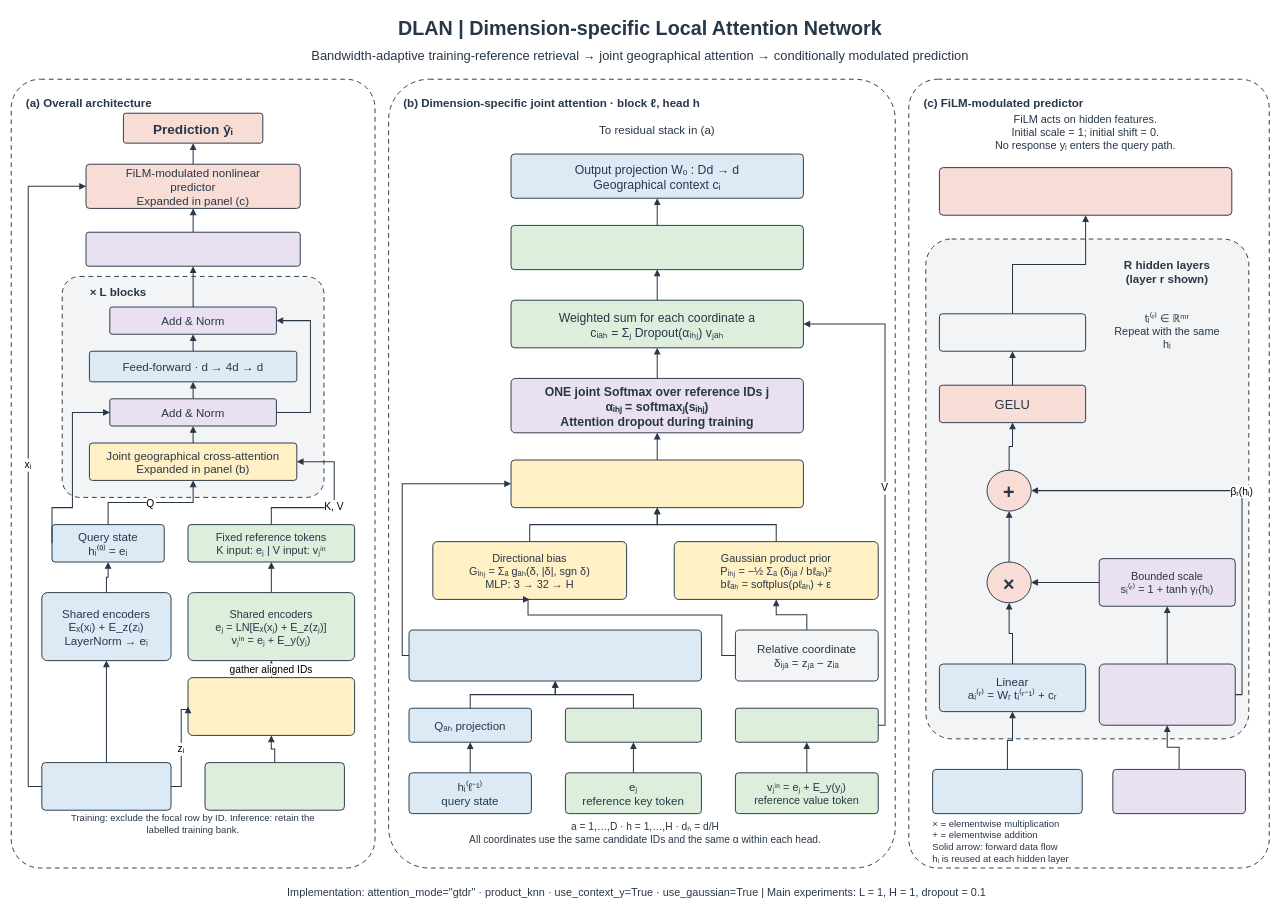
The diagram is 1280 pixels wide and 913 high, and some of its shapes have lost their labels. The centre of each missing label's shape, as x and y in pixels:
Add scores + padding mask sᵢₕⱼ = mᵢₕⱼ + Gᵢₕⱼ + Pᵢₕⱼ: the point at 657,483
After R layers: linear readout ŷᵢ = wᵀ tᵢ⁽ᴿ⁾ + b: the point at 1085,191
Bandwidth-adaptive retrieval d² = Σₐ (δₐ / bℓₐₕ)² Top-K per (ℓ,h) → ID union: the point at 271,706
Concatenate all coordinate–head contexts D × H × dₕ = Dd: the point at 657,247
Content match · average over D coordinates mᵢₕⱼ = (1/D) Σₐ (qᵢₐₕᵀ kⱼₐₕ)/√dₕ: the point at 555,655
Dropout: the point at 1012,332
FiLM linear d → 2mᵣ Split → γᵣ(hᵢ), βᵣ(hᵢ) Zero-initialised weights + bias: the point at 1166,694
Kₐₕ projection: the point at 633,724
Local condition hᵢ = hᵢ⁽ᴸ⁾: the point at 192,248
Local condition hᵢ ∈ ℝᵈ: the point at 1179,791
Query covariates tᵢ⁽⁰⁾ = xᵢ: the point at 1007,791
Query xᵢ ∈ ℝᵖ, zᵢ ∈ ℝᴰ: the point at 106,786
Training reference bank {(xⱼ, zⱼ, yⱼ)}ⱼ∈train: the point at 274,786
Vₐₕ projection: the point at 806,724
